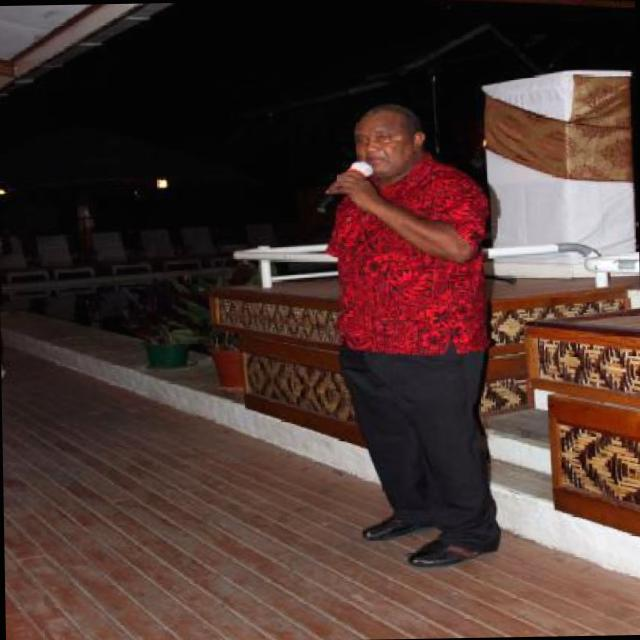Person: (306, 58, 514, 572)
